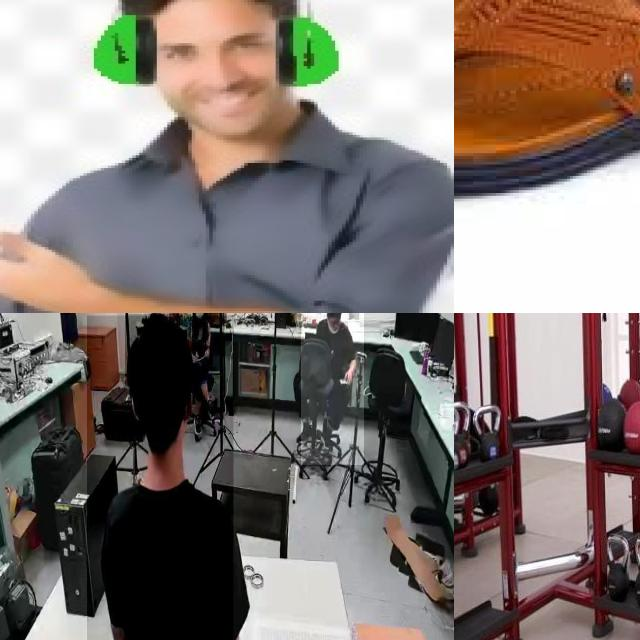Ear-protection: (51, 0, 355, 94)
Sandals: (454, 0, 640, 264)
hand_noglove: (342, 366, 354, 386), (188, 346, 198, 364), (202, 342, 210, 362)
head_nohelmet: (125, 314, 191, 386)
person: (87, 315, 234, 640), (301, 313, 364, 465), (175, 313, 224, 420)
shoes: (294, 418, 314, 446), (318, 423, 334, 453)
